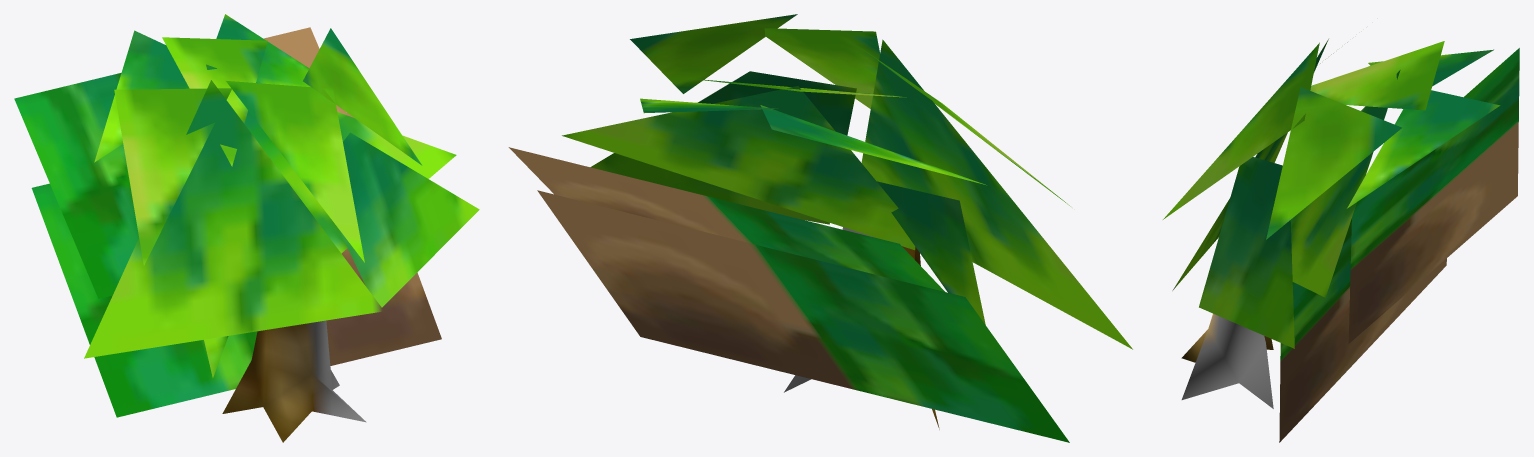
The model's file is fg_bushB_1.dae.
The picture shows the model from 3 angles, left to right: view 1: azimuth 30°, elevation 25°; view 2: azimuth 150°, elevation 25°; view 3: azimuth 270°, elevation 25°; orthographic projection. The views are drawn at different scales.
Parts seen in each view (by area): view 1: fg_bushB_1; view 2: fg_bushB_1; view 3: fg_bushB_1.
Part boxes in pixels (x1,y1,x2,y2): fg_bushB_1: (14,14,479,442); fg_bushB_1: (508,14,1132,442); fg_bushB_1: (1163,39,1519,442).
Bounding box in the file's own units: 34.76 × 25.18 × 25.46.
1 material, 1 textured.
